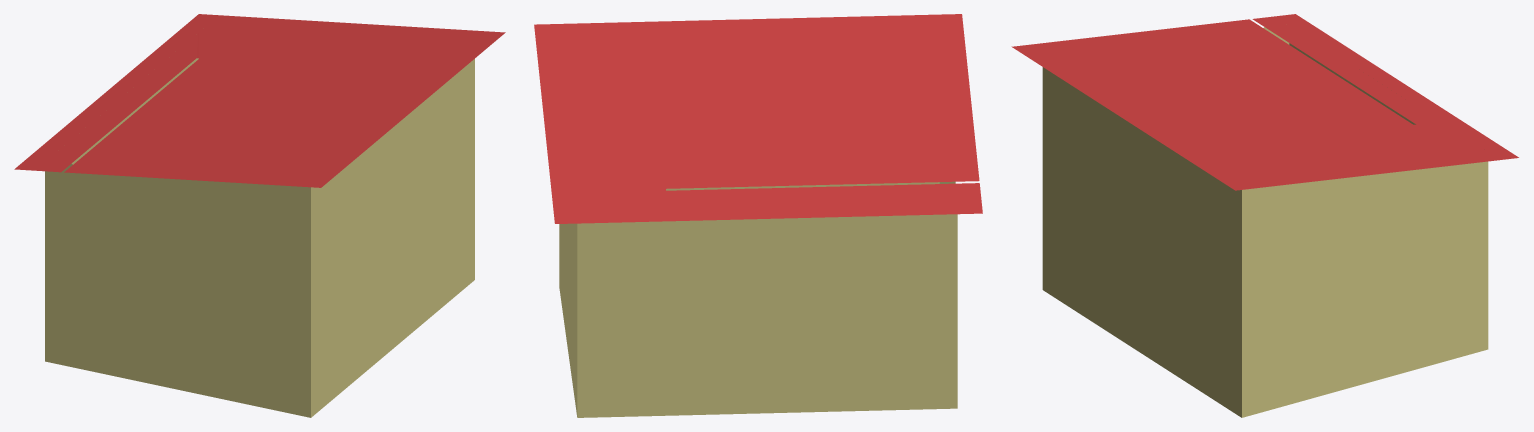
3 renders of one model, left to right at view 1: azimuth 30°, elevation 25°; view 2: azimuth 150°, elevation 25°; view 3: azimuth 270°, elevation 25°, orthographic. The views are drawn at different scales.
Bounding box in the file's own units: 11.64 × 11.21 × 5.86.
